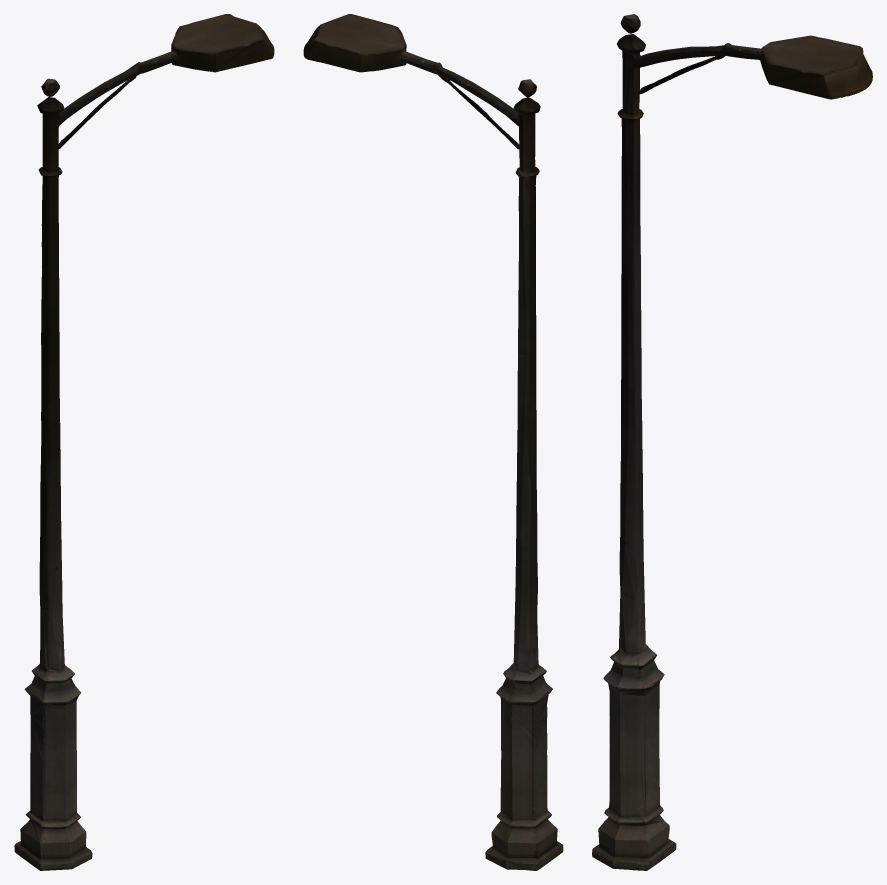
Rendered from streetlight.glb.
3 views of the same model, side by side, from view 1: azimuth 30°, elevation 25°; view 2: azimuth 150°, elevation 25°; view 3: azimuth 330°, elevation 25° (orthographic). The views are drawn at different scales.
Parts seen in each view (by area): view 1: world; view 2: world; view 3: world.
Part boxes in pixels (x1=…): world: x1=14, y1=14, x2=274, y2=870; world: x1=303, y1=14, x2=563, y2=870; world: x1=592, y1=14, x2=872, y2=870.
Size of the model in its own units: 0.6432 by 1.99 by 0.1765.
Materials: 1 (1 with a texture image).
